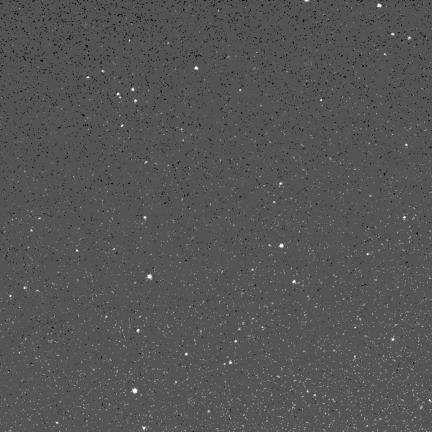blob: (147, 274, 152, 280), (279, 243, 284, 249), (133, 388, 137, 394), (117, 92, 121, 97), (185, 353, 189, 357), (408, 37, 412, 41), (144, 216, 148, 220), (377, 4, 381, 8), (134, 100, 138, 104), (102, 70, 106, 73), (391, 33, 395, 36), (137, 329, 140, 333), (279, 182, 282, 186), (229, 360, 232, 364), (195, 66, 198, 70), (293, 280, 296, 283), (24, 287, 27, 290), (235, 340, 238, 343), (76, 249, 79, 252), (405, 144, 408, 147), (367, 253, 370, 256), (208, 410, 210, 413), (132, 88, 134, 91)
